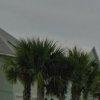Palm tree: (10, 29, 88, 94)
